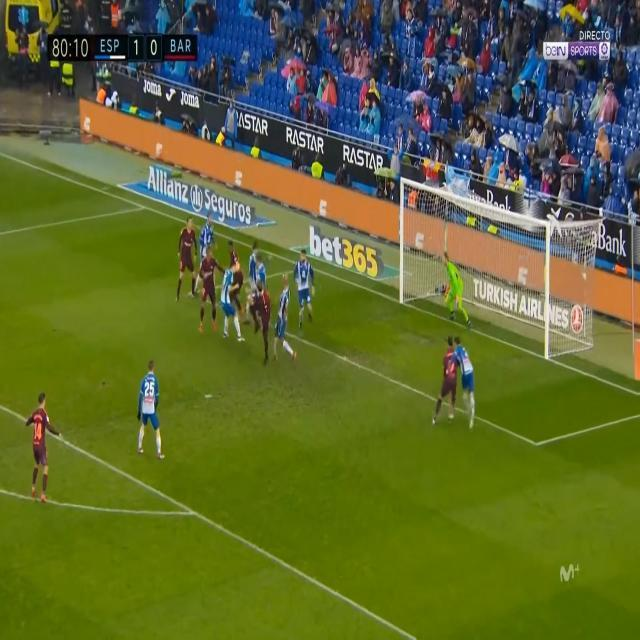goalkeeper: (439, 243, 474, 337)
player: (131, 353, 171, 479), (21, 388, 59, 508), (454, 329, 483, 439), (433, 332, 461, 437), (290, 234, 319, 326), (267, 273, 296, 364), (171, 211, 200, 300), (194, 242, 221, 333), (247, 277, 273, 361), (221, 260, 241, 348)
